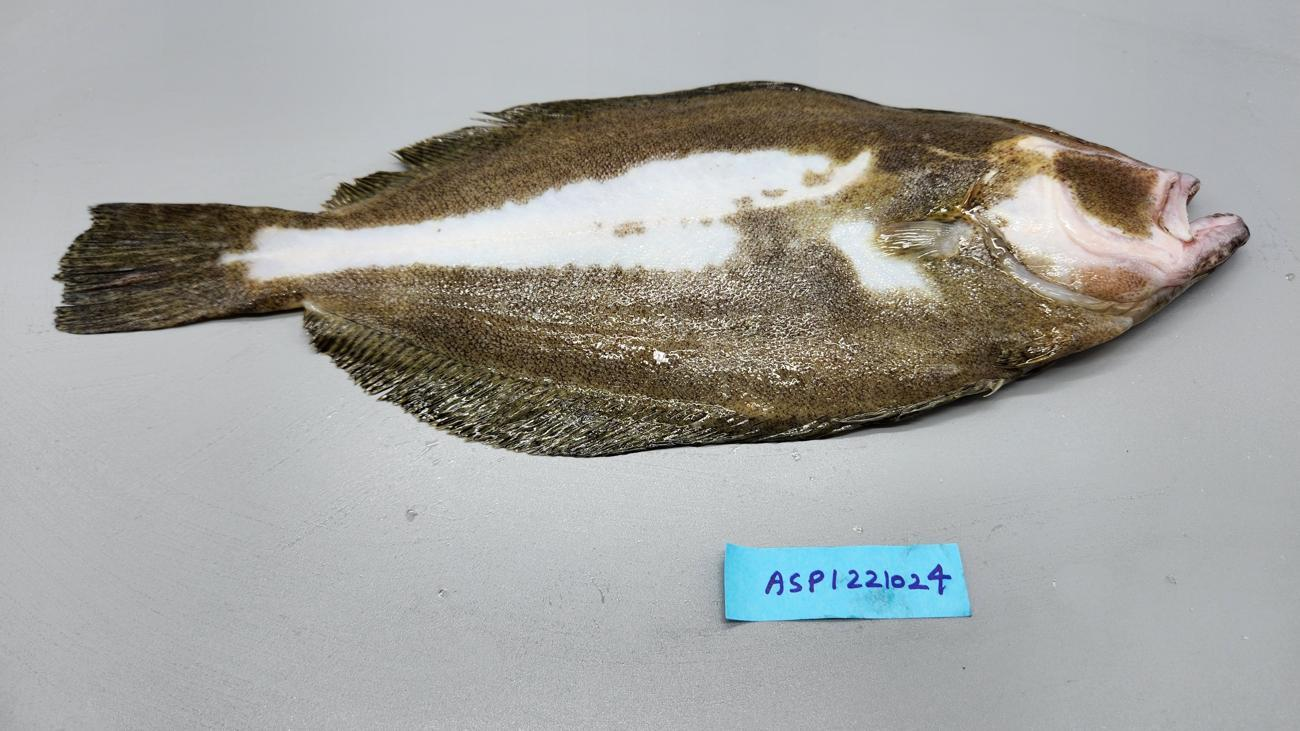SPOUY: (43, 69, 1260, 469)
